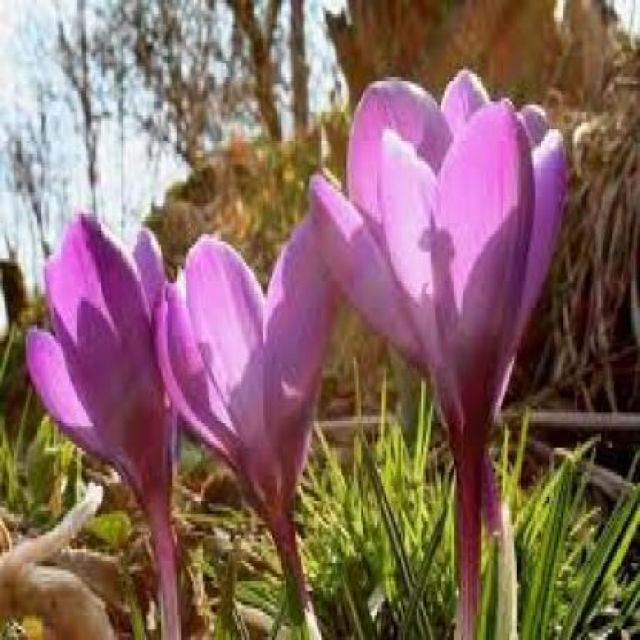Flower: (310, 72, 567, 476), (151, 212, 334, 543), (24, 214, 176, 523)
